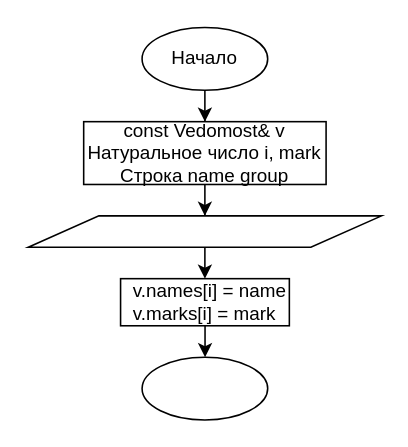
The diagram is 408 pixels wide and 447 high, and some of its shapes have lost their labels. The shapes that lost their labels are listed below. From the top down, each one's box as (x1, y1, x2, y2) in pixels, then its label:
(27, 214, 382, 247): Получение v, i, mark, group
(141, 356, 268, 420): Конец
